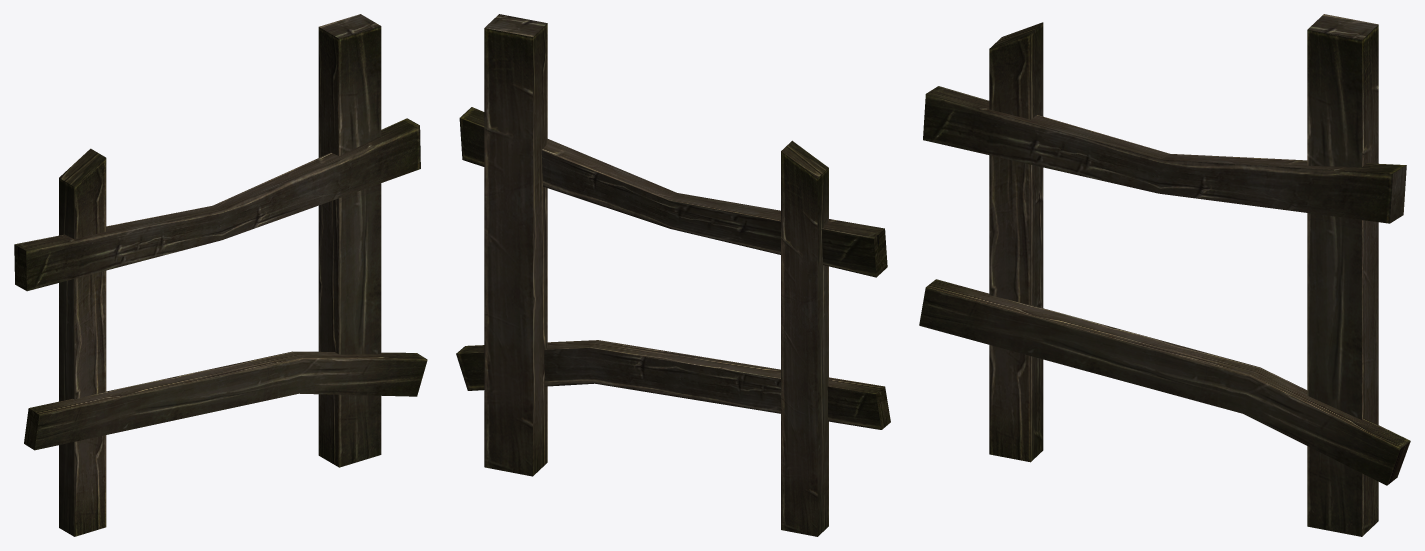
Rendered from C_mugan004.fbx.
3 views of the same model, side by side, from view 1: azimuth 30°, elevation 25°; view 2: azimuth 150°, elevation 25°; view 3: azimuth 330°, elevation 25° (orthographic). The views are drawn at different scales.
Visible parts, largest first — view 1: C_mugan004; view 2: C_mugan004; view 3: C_mugan004.
Boxes of the visible parts, bbox=[...] form: C_mugan004: bbox=[14, 14, 427, 536]; C_mugan004: bbox=[456, 14, 890, 536]; C_mugan004: bbox=[919, 14, 1410, 536].
Bounding box in the file's own units: 156 × 157 × 23.45.
